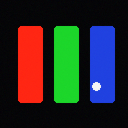0 point: (92, 82, 100, 90)
